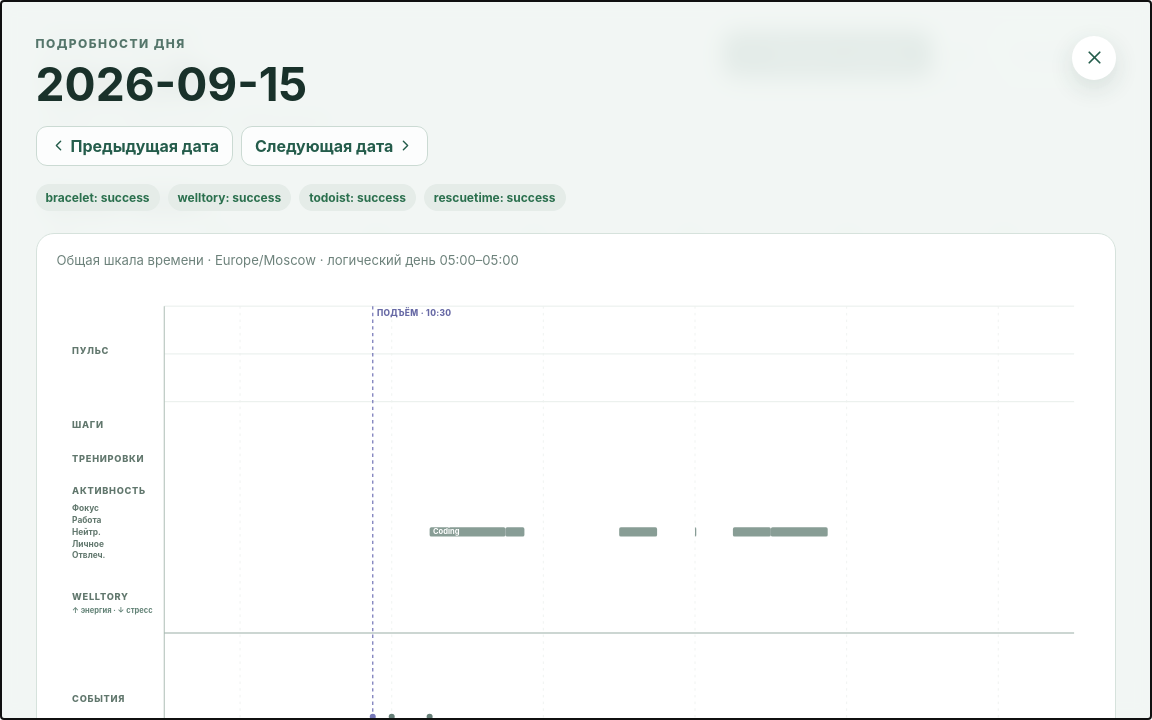
it: App Component › handles navigation inside day modal via chevron buttons, keyboard arrows, and escape
Expected: the button "Следующая дата" is enabled, [241,126,428,166]
Note: Click previous date
Click the button "Предыдущая дата". click: (134, 146)
box: [36,126,233,166]
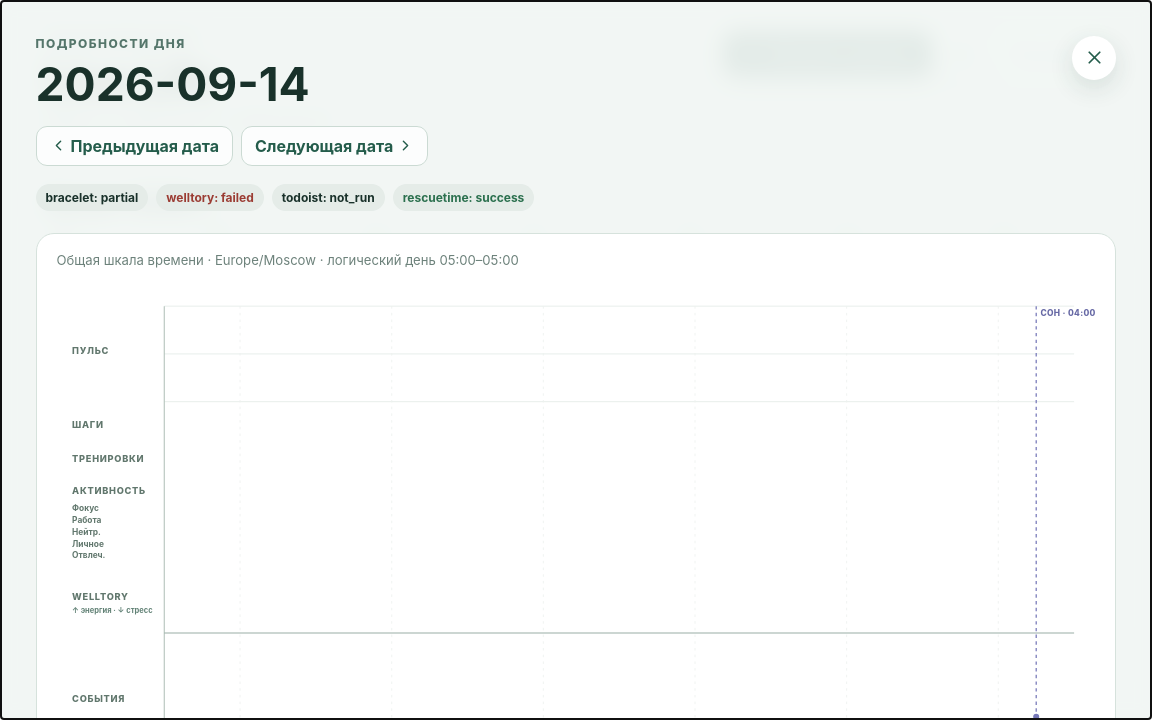
Now the heading "2026-09-14" is shown, box [36,56,310,112]
Note: Click next date back to 2026-09-15
Click the button "Следующая дата". click: (335, 146)
box: [241,126,428,166]
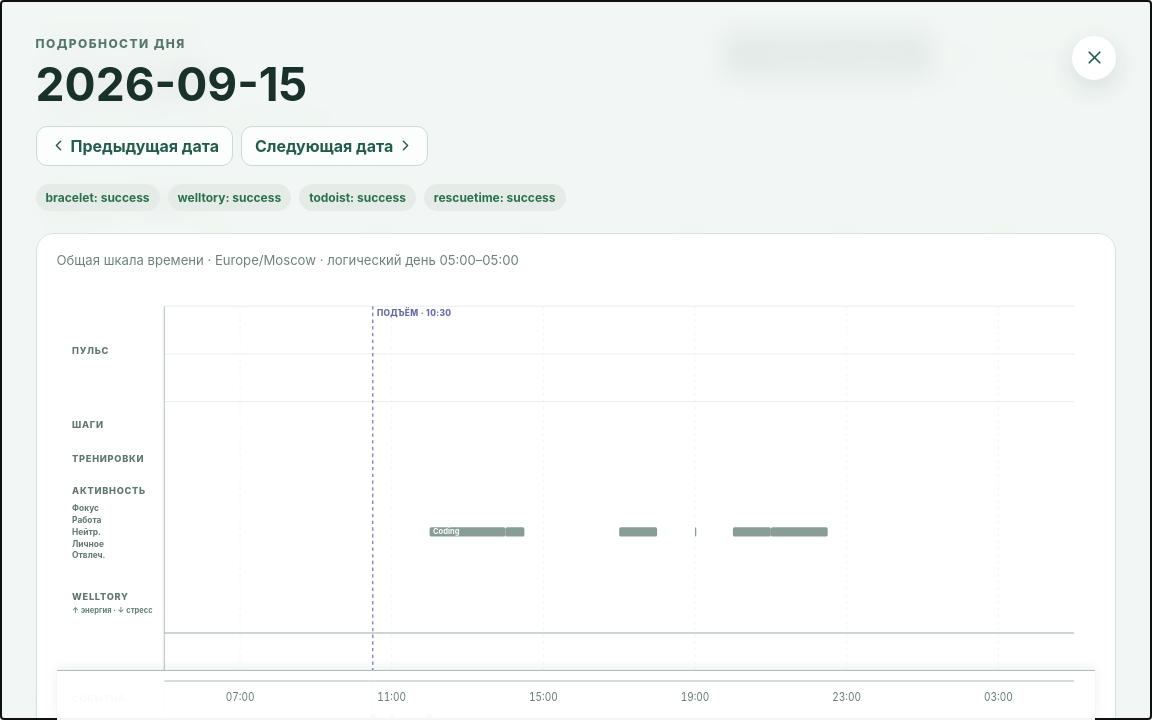
Now the heading "2026-09-15" is shown, box [36,56,307,112]
Note: Keyboard ArrowRight back to 2026-09-16
Press ArrowRight
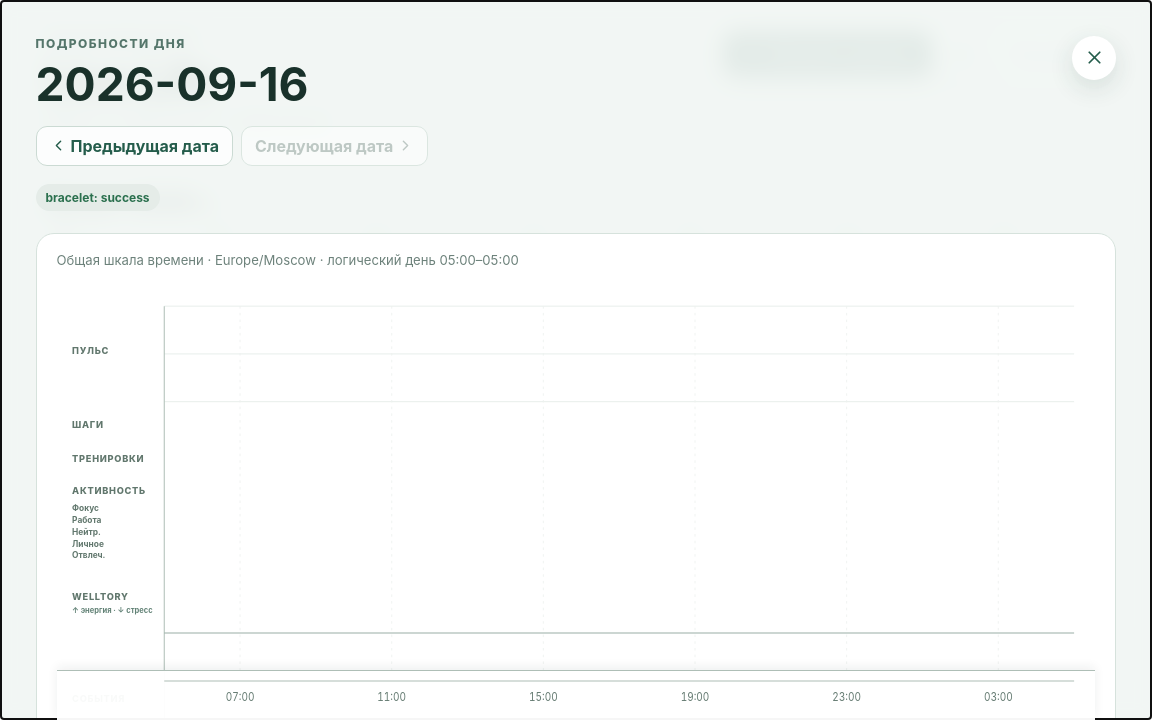
Now the heading "2026-09-16" is shown, box [36,56,308,112]
Note: ArrowRight on last date should do nothing
Press ArrowRight
Now the heading "2026-09-16" is shown, box [36,56,308,112]
Note: Keyboard ArrowLeft back to 2026-09-15
Press ArrowLeft
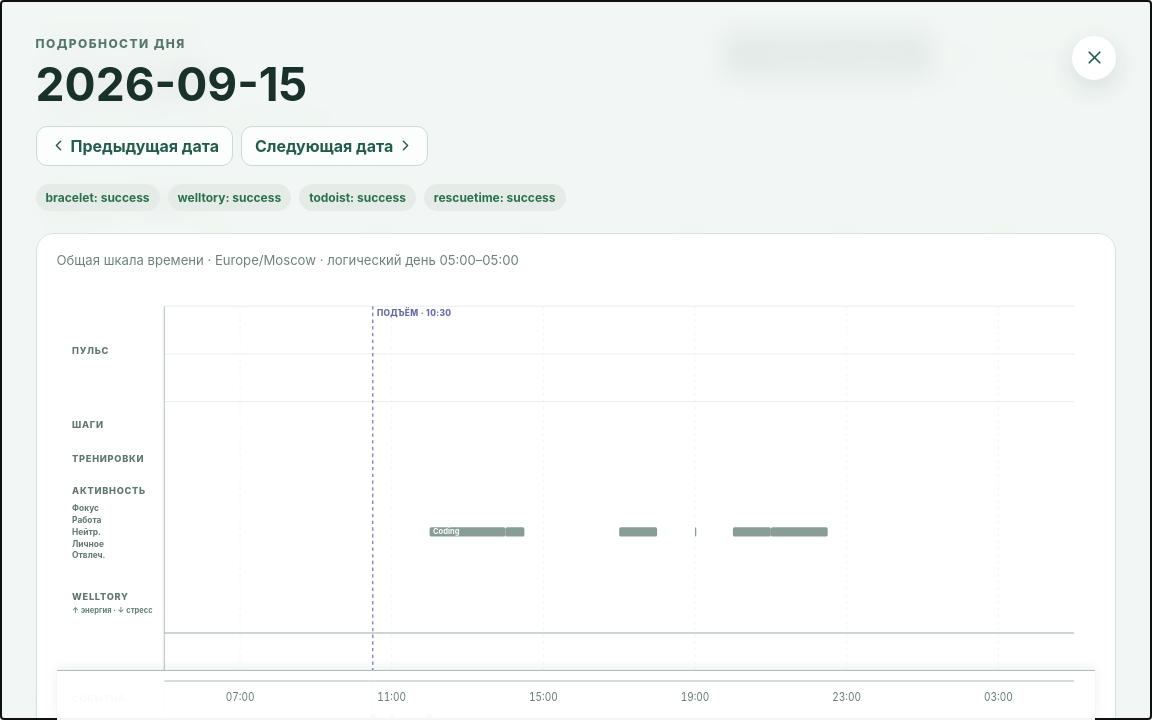
Now the heading "2026-09-15" is shown, box [36,56,307,112]
Note: Irrelevant key does nothing
Press Space
Now the heading "2026-09-15" is shown, box [36,56,307,112]
Note: Close with Escape
Press Escape
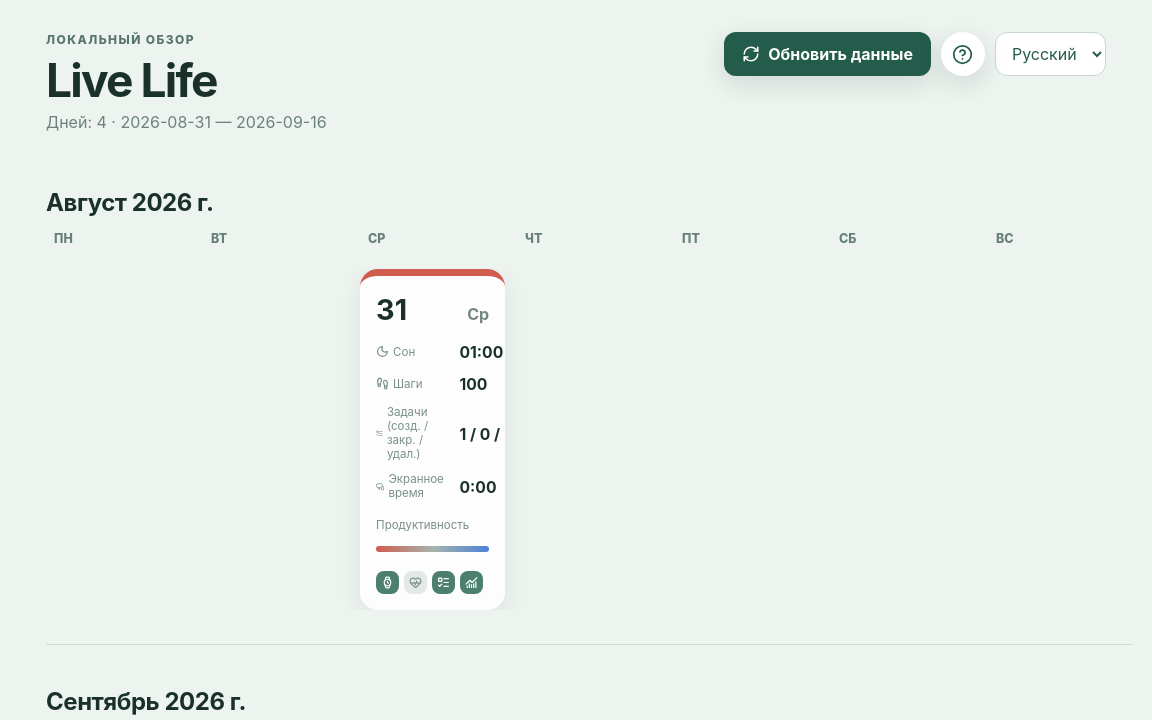
Now the text "Подробности дня" is gone
